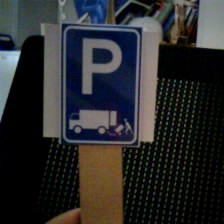load: (50, 18, 155, 149)
